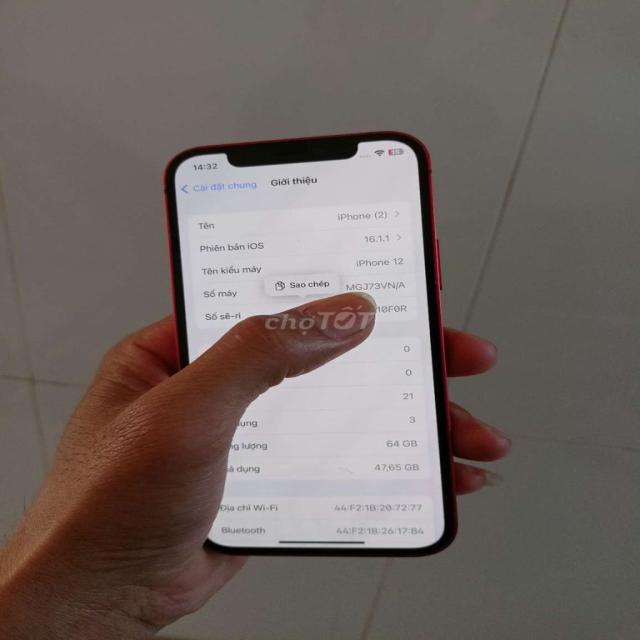gen_12_13: (167, 128, 461, 559)
